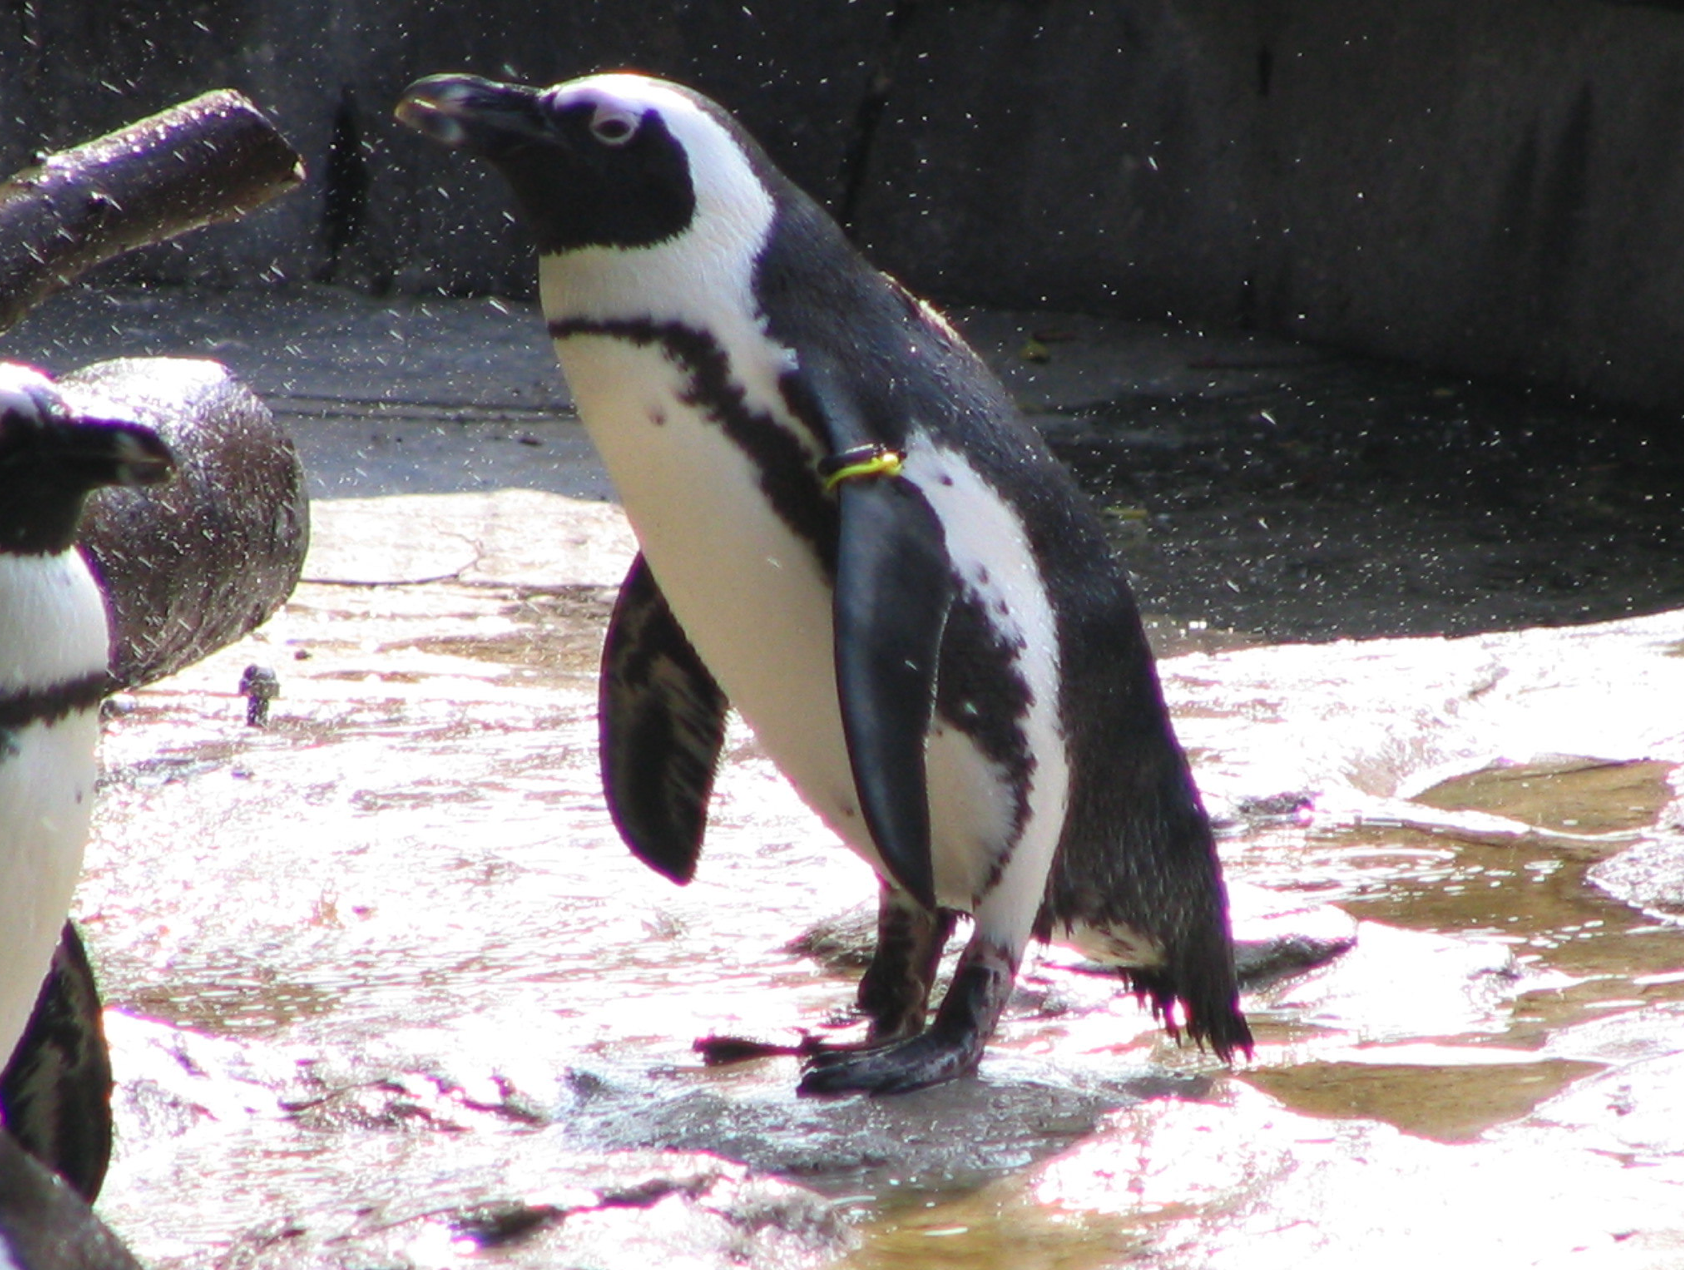penguin: (387, 47, 1261, 1129)
